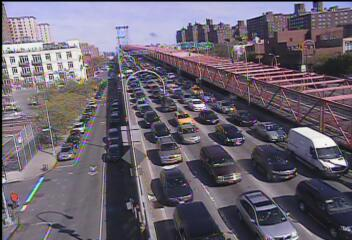neg: (220, 148, 266, 208), (175, 102, 213, 152), (281, 41, 316, 88), (17, 54, 50, 97), (303, 109, 330, 145), (69, 25, 91, 54), (95, 151, 113, 176), (146, 120, 164, 144), (161, 65, 177, 86), (36, 32, 50, 51), (115, 57, 128, 73), (12, 27, 21, 39)
